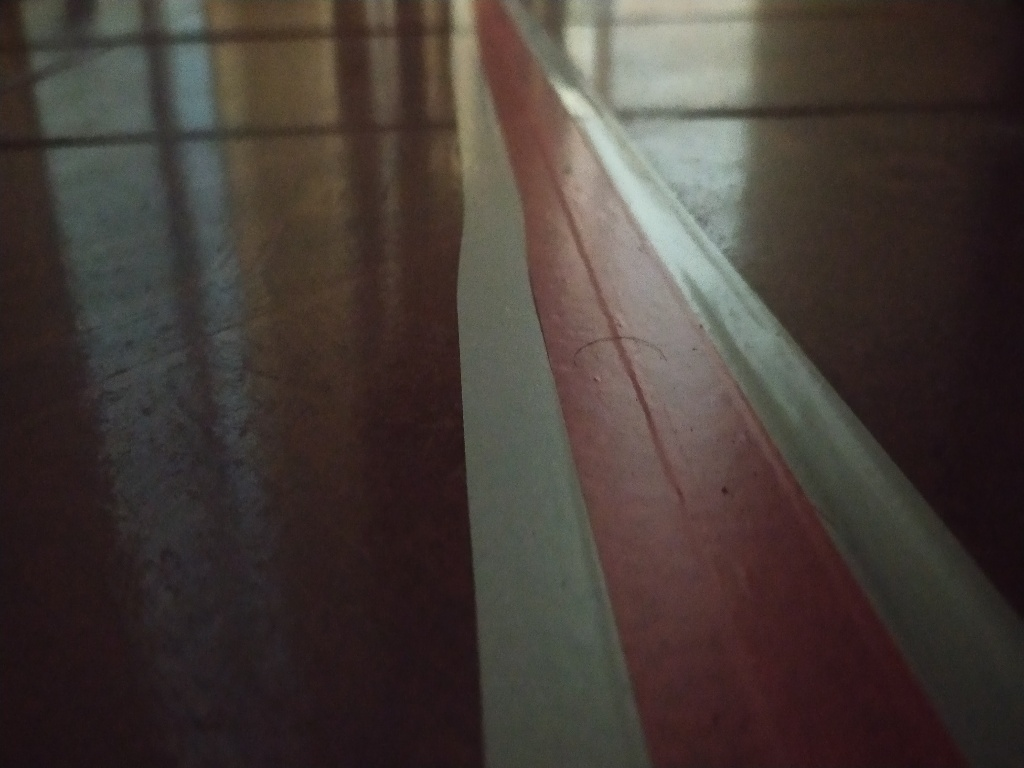reta: (447, 6, 1023, 768)
